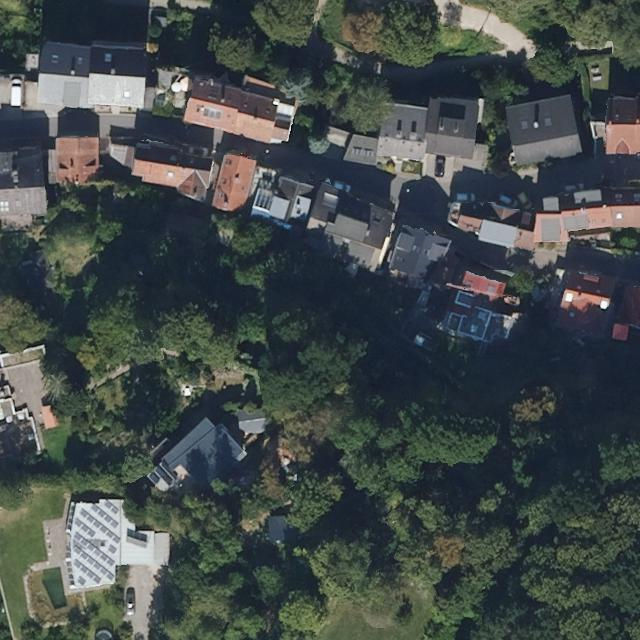PV: (71, 501, 121, 587)
